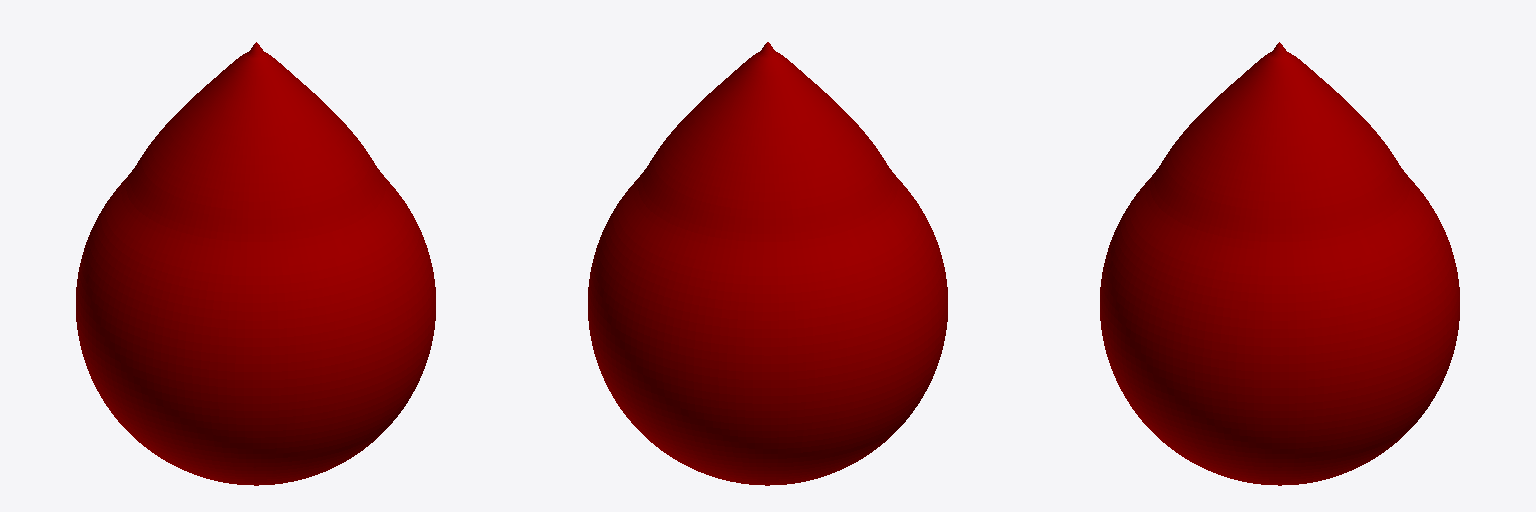
The model's file is blood.obj.
3 views of the same model, side by side, from view 1: azimuth 30°, elevation 25°; view 2: azimuth 150°, elevation 25°; view 3: azimuth 270°, elevation 25° (orthographic).
Parts seen in each view (by area): view 1: Sphere; view 2: Sphere; view 3: Sphere.
Boxes of the visible parts, x1,y1,x2,y2 form: Sphere: [76, 42, 435, 485]; Sphere: [588, 42, 947, 485]; Sphere: [1100, 42, 1459, 485].
Bounding box in the file's own units: 1.98 × 2.58 × 1.98.